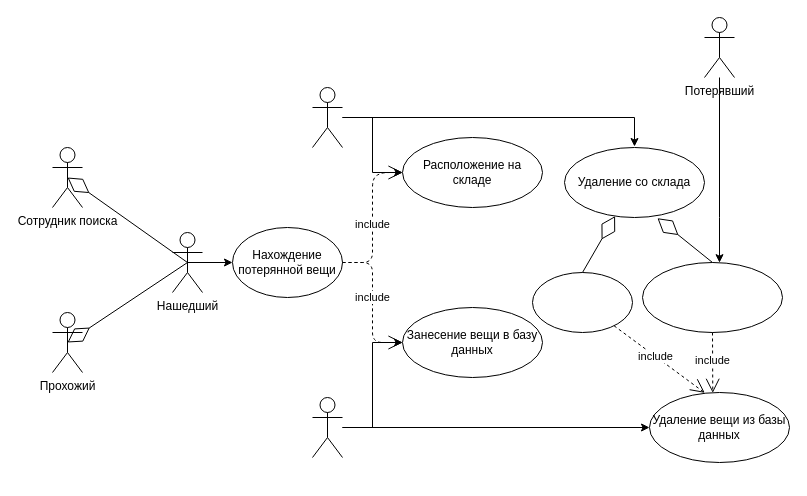
The diagram is 807 pixels wide and 496 high, and some of its shapes have lost their labels. The box of each missing label's shape, as (x1, y1, x2, y2) in pixels:
Возврат вещи со склада: (642, 262, 782, 332)
Кладовщик: (312, 86, 342, 148)
Передача вещи на аукцион: (532, 272, 632, 332)
Технический специалист: (312, 396, 342, 458)
